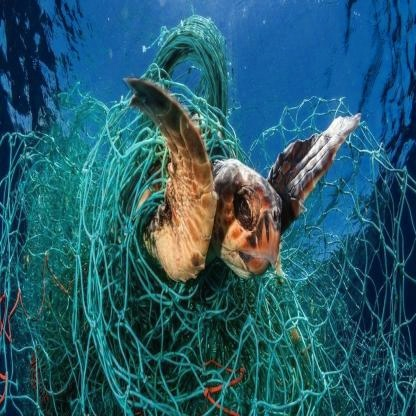net: (3, 103, 416, 416)
